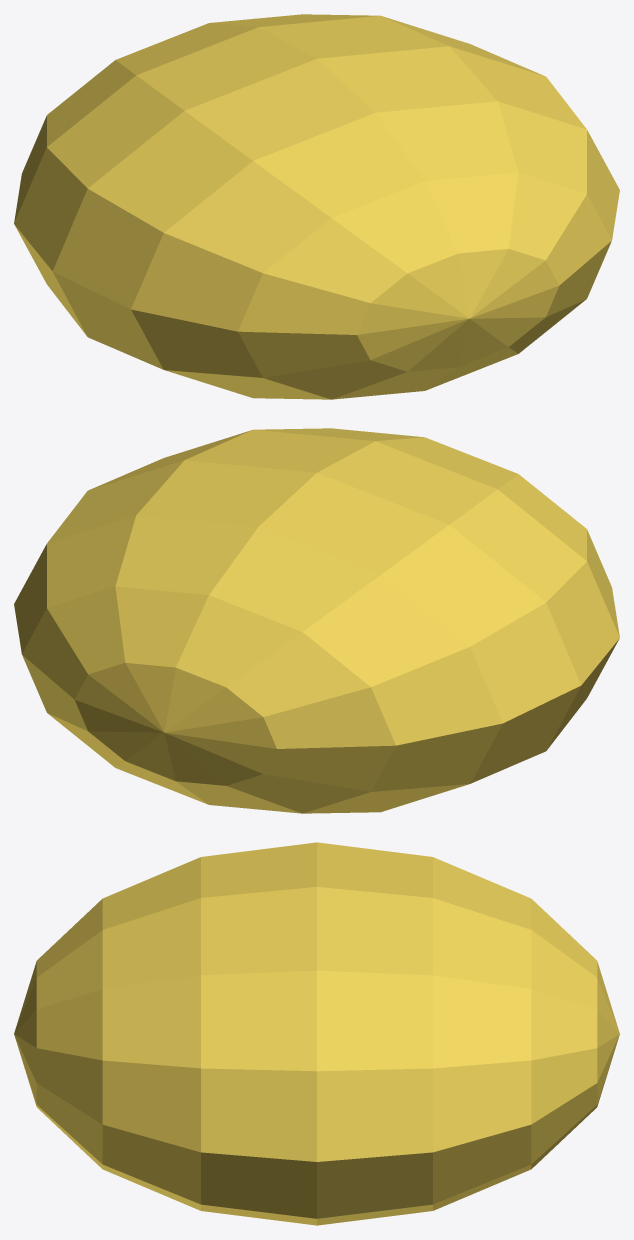
The model's file is hardhat.glb.
The picture shows the model from 3 angles, top to bottom: view 1: azimuth 30°, elevation 25°; view 2: azimuth 150°, elevation 25°; view 3: azimuth 270°, elevation 25°; orthographic projection.
Parts seen in each view (by area): view 1: hardhat; view 2: hardhat; view 3: hardhat.
Part boxes in pixels (box(x1,y1,x2,y2)): hardhat: box(14, 14, 619, 399); hardhat: box(14, 428, 619, 813); hardhat: box(14, 842, 619, 1225).
Bounding box in the file's own units: 0.5596 × 0.2998 × 0.5596.
